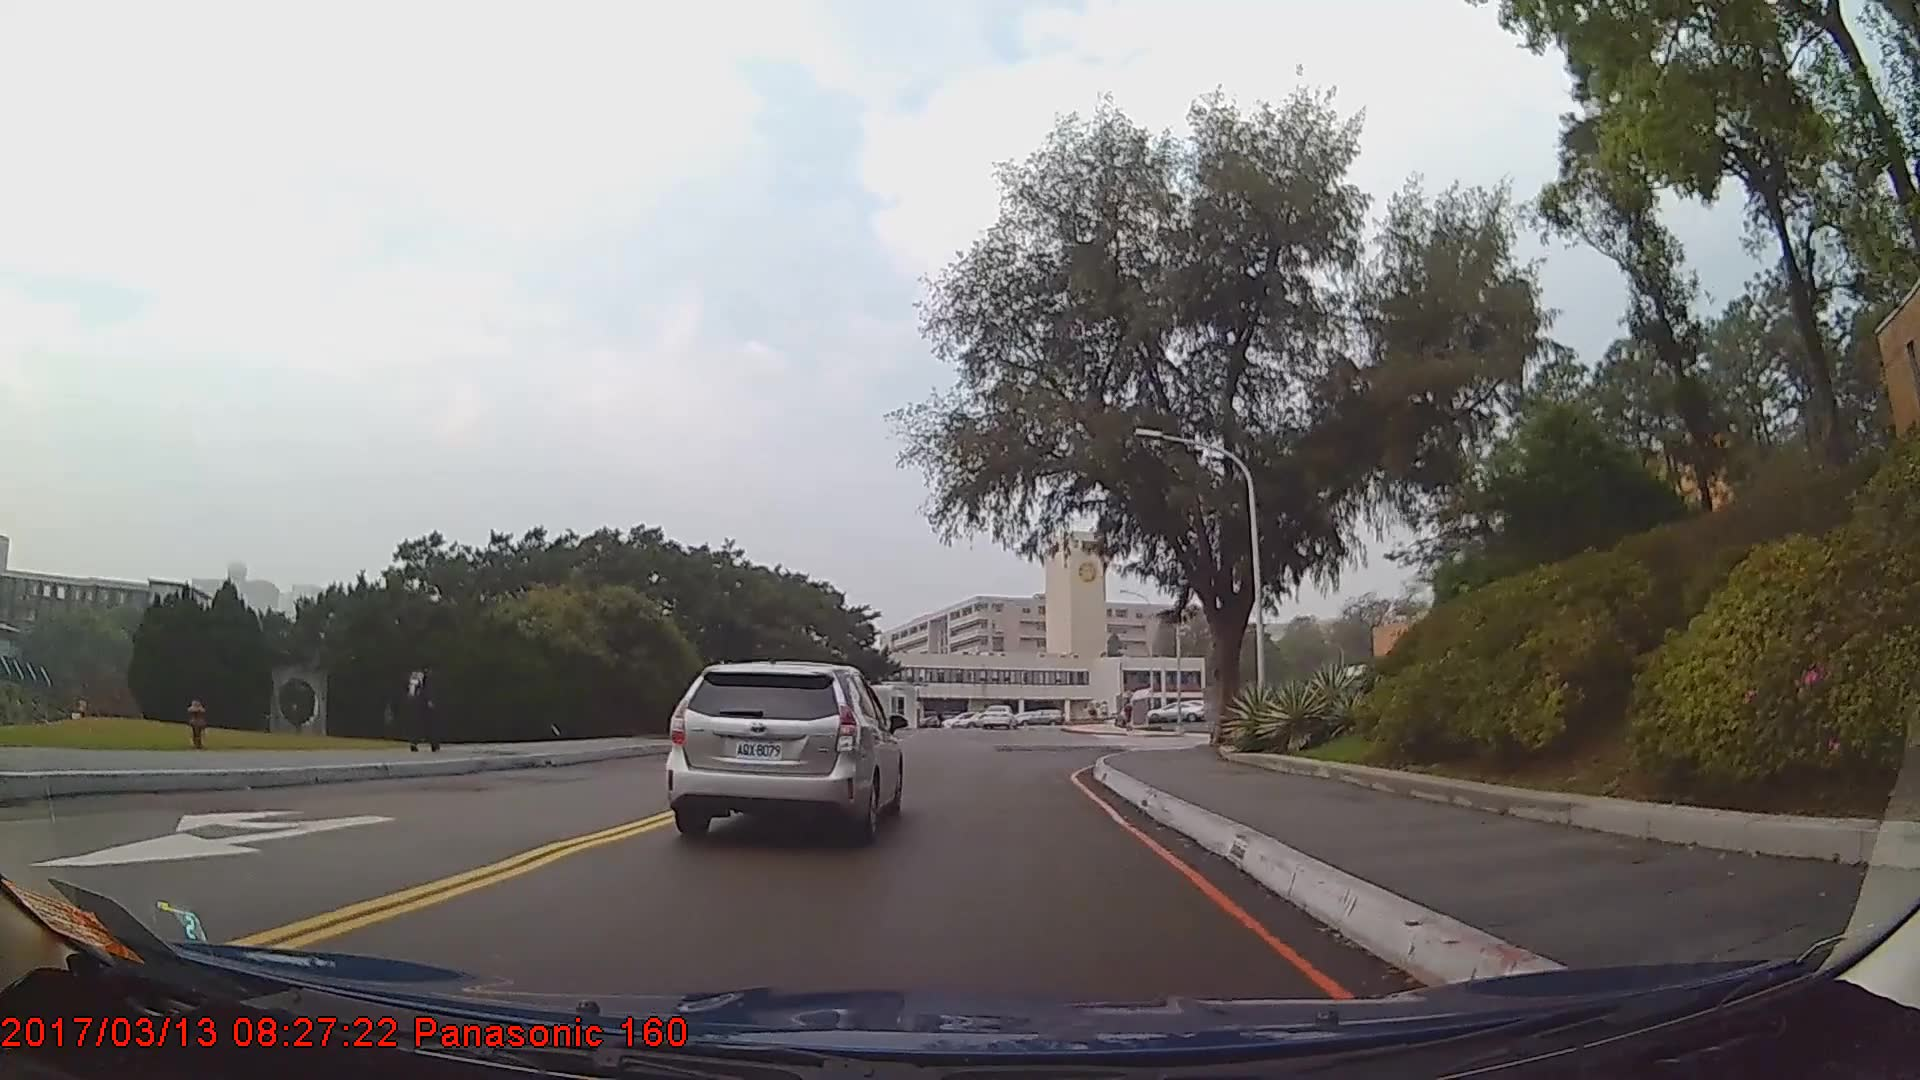pedestrian: (393, 653, 439, 754)
vehicle: (663, 658, 903, 843), (1144, 701, 1204, 723), (976, 702, 1015, 729)
